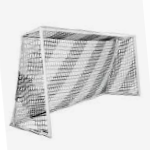goals: (7, 24, 143, 141)
